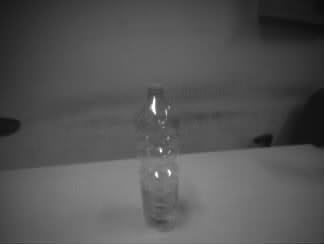Bottle: (133, 83, 181, 231)
